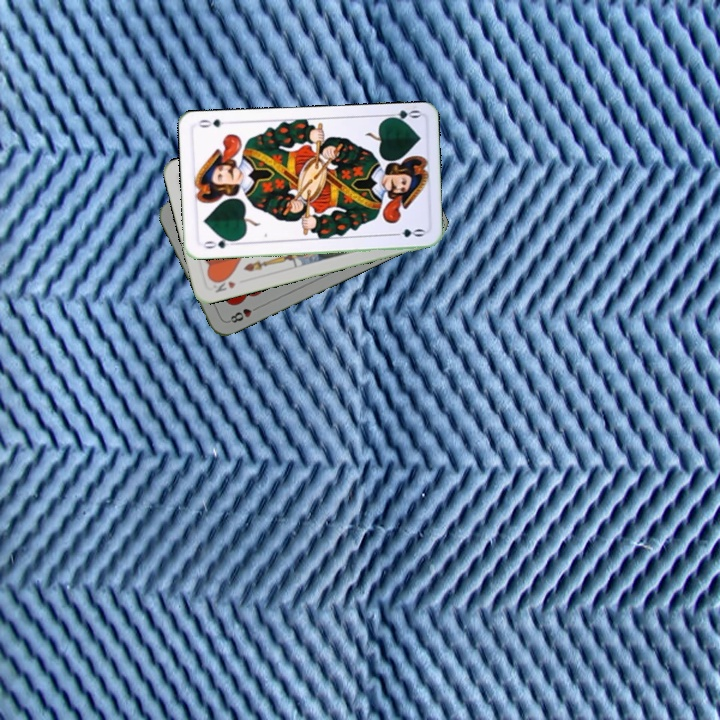GO: (381, 106, 422, 126), (198, 234, 238, 251)
H8: (224, 302, 262, 326)
HK: (208, 273, 238, 295)
